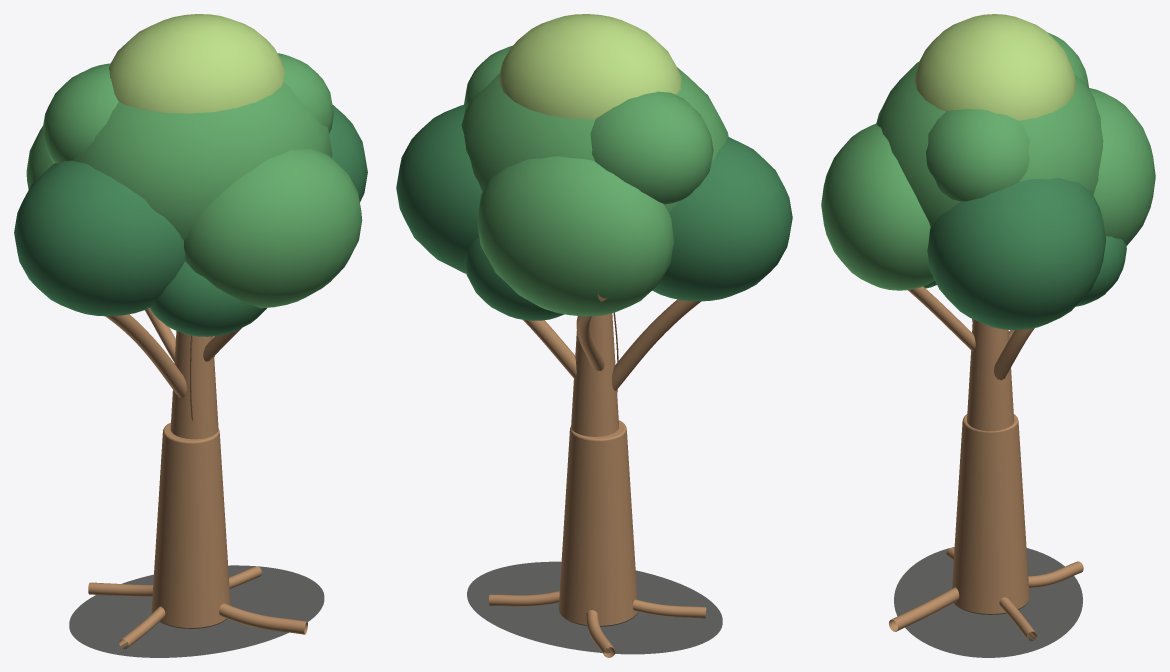
Rendered from tree.glb.
3 renders of one model, left to right at view 1: azimuth 30°, elevation 25°; view 2: azimuth 150°, elevation 25°; view 3: azimuth 270°, elevation 25°, orthographic.
Parts seen in each view (by area): view 1: PROP_Tree_CanopyCluster_Front, PROP_Tree_CanopyCluster_Left, PROP_Tree_CanopyCluster_Core, PROP_Tree_CanopyCluster_Crown, PROP_Tree_LowerTrunk_TaperedBark, BASE_BakedSoftContactShadow, PROP_Tree_CanopyCluster_LeftCrown, PROP_Tree_CanopyCluster_LowFront, PROP_Tree_UpperTrunk_SwayingBark, PROP_Tree_CanopyCluster_RightCrown, PROP_Tree_CanopyCluster_Right, PROP_Tree_MainBranch_LeftLow (+5 smaller); view 2: PROP_Tree_CanopyCluster_Rear, PROP_Tree_CanopyCluster_Left, PROP_Tree_CanopyCluster_Crown, PROP_Tree_LowerTrunk_TaperedBark, BASE_BakedSoftContactShadow, PROP_Tree_CanopyCluster_LeftCrown, PROP_Tree_CanopyCluster_Right, PROP_Tree_CanopyCluster_Core, PROP_Tree_UpperTrunk_SwayingBark, PROP_Tree_CanopyCluster_LowBack, PROP_Tree_MainBranch_LeftLow, PROP_Tree_CanopyCluster_RightCrown (+5 smaller); view 3: PROP_Tree_CanopyCluster_Right, PROP_Tree_CanopyCluster_Crown, PROP_Tree_CanopyCluster_Front, PROP_Tree_LowerTrunk_TaperedBark, PROP_Tree_CanopyCluster_Core, BASE_BakedSoftContactShadow, PROP_Tree_CanopyCluster_RightCrown, PROP_Tree_CanopyCluster_Rear, PROP_Tree_UpperTrunk_SwayingBark, PROP_Tree_CanopyCluster_LowBack, PROP_Tree_MainBranch_FrontLift, PROP_Tree_RootFlare_Front (+4 smaller).
Part boxes in pixels (x1,y1,x2,y2): PROP_Tree_CanopyCluster_Front: (184, 148, 362, 308); PROP_Tree_CanopyCluster_Left: (14, 160, 185, 316); PROP_Tree_CanopyCluster_Core: (73, 82, 332, 240); PROP_Tree_CanopyCluster_Crown: (108, 14, 285, 113); PROP_Tree_LowerTrunk_TaperedBark: (151, 422, 230, 628); BASE_BakedSoftContactShadow: (69, 565, 324, 657); PROP_Tree_CanopyCluster_LeftCrown: (42, 63, 118, 163); PROP_Tree_CanopyCluster_LowFront: (150, 261, 266, 336); PROP_Tree_UpperTrunk_SwayingBark: (170, 331, 218, 439); PROP_Tree_CanopyCluster_RightCrown: (278, 53, 333, 133); PROP_Tree_CanopyCluster_Right: (329, 104, 367, 201); PROP_Tree_MainBranch_LeftLow: (105, 314, 186, 397); PROP_Tree_CanopyCluster_Rear: (477, 156, 673, 316); PROP_Tree_CanopyCluster_Left: (652, 137, 792, 301); PROP_Tree_CanopyCluster_Crown: (498, 14, 681, 119); PROP_Tree_LowerTrunk_TaperedBark: (558, 420, 637, 626); BASE_BakedSoftContactShadow: (467, 561, 722, 654); PROP_Tree_CanopyCluster_LeftCrown: (590, 91, 713, 204); PROP_Tree_CanopyCluster_Right: (396, 104, 482, 273); PROP_Tree_CanopyCluster_Core: (461, 67, 728, 212); PROP_Tree_UpperTrunk_SwayingBark: (571, 313, 619, 436); PROP_Tree_CanopyCluster_LowBack: (464, 237, 563, 320); PROP_Tree_MainBranch_LeftLow: (612, 299, 701, 390); PROP_Tree_CanopyCluster_RightCrown: (464, 46, 511, 108); PROP_Tree_CanopyCluster_Right: (927, 178, 1106, 330); PROP_Tree_CanopyCluster_Crown: (914, 14, 1076, 120); PROP_Tree_CanopyCluster_Front: (821, 123, 934, 290); PROP_Tree_LowerTrunk_TaperedBark: (952, 414, 1029, 614); PROP_Tree_CanopyCluster_Core: (876, 61, 1103, 226); BASE_BakedSoftContactShadow: (894, 547, 1082, 657); PROP_Tree_CanopyCluster_RightCrown: (926, 109, 1029, 201); PROP_Tree_CanopyCluster_Rear: (1089, 88, 1155, 245); PROP_Tree_UpperTrunk_SwayingBark: (967, 319, 1014, 431); PROP_Tree_CanopyCluster_LowBack: (1076, 236, 1126, 306); PROP_Tree_MainBranch_FrontLift: (908, 286, 975, 351); PROP_Tree_RootFlare_Front: (889, 587, 959, 631).
Size of the model in its own units: 1.94 by 3.09 by 1.62.
